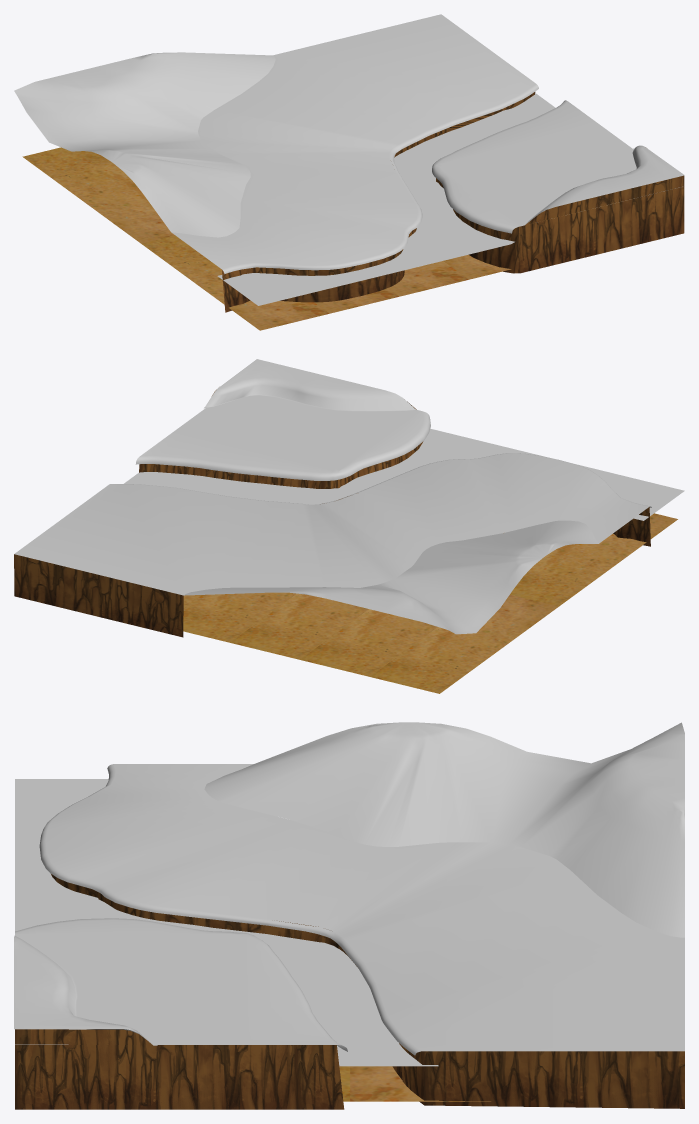
Rendered from Terrain1_1fixedforever.FBX.
3 renders of one model, top to bottom at view 1: azimuth 30°, elevation 25°; view 2: azimuth 150°, elevation 25°; view 3: azimuth 270°, elevation 25°, orthographic. The views are drawn at different scales.
Visible parts, largest first — view 1: Object043, Object031, Object032, Plane030, Plane031; view 2: Object043, Plane030, Object031, Object032, Plane031; view 3: Object043, Object032, Object031, Plane031, Plane030.
Boxes of the visible parts, x1,y1,x2,y2 form: Object043: (14, 14, 538, 273); Object031: (432, 100, 684, 233); Object032: (222, 92, 684, 312); Plane030: (22, 147, 511, 330); Plane031: (217, 93, 555, 305); Object043: (14, 453, 651, 634); Plane030: (183, 513, 677, 693); Object031: (135, 359, 430, 480); Object032: (14, 389, 650, 637); Plane031: (124, 428, 684, 520); Object043: (39, 722, 684, 1055); Object032: (15, 874, 684, 1109); Object031: (14, 918, 347, 1051); Plane031: (15, 779, 438, 1066); Plane030: (339, 1066, 490, 1101).
Bounding box in the file's own units: 968 × 158 × 945.
